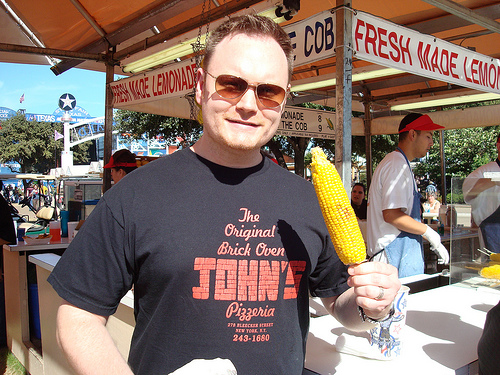corn: (307, 142, 375, 267)
